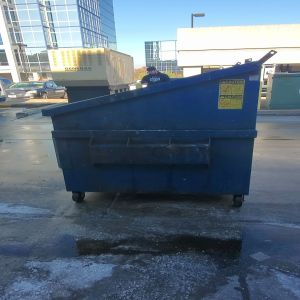Dumpster: (49, 89, 258, 211)
Person: (140, 65, 169, 86)
